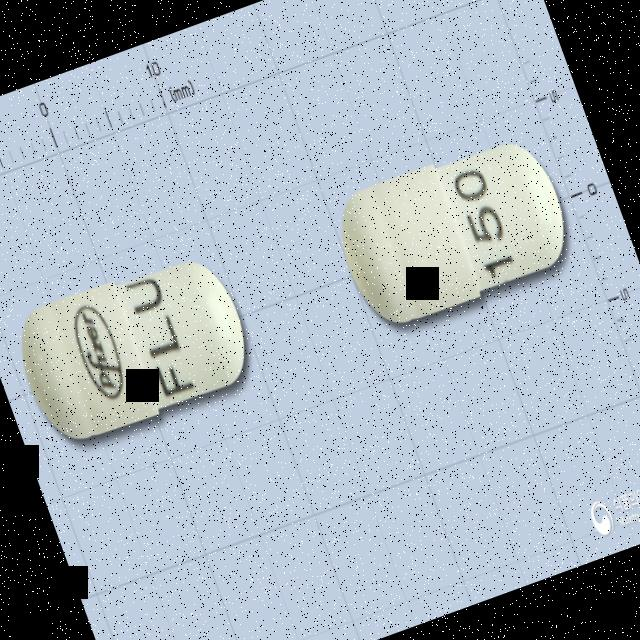Diflucan Cap: (6, 243, 263, 453), (325, 126, 582, 336)
